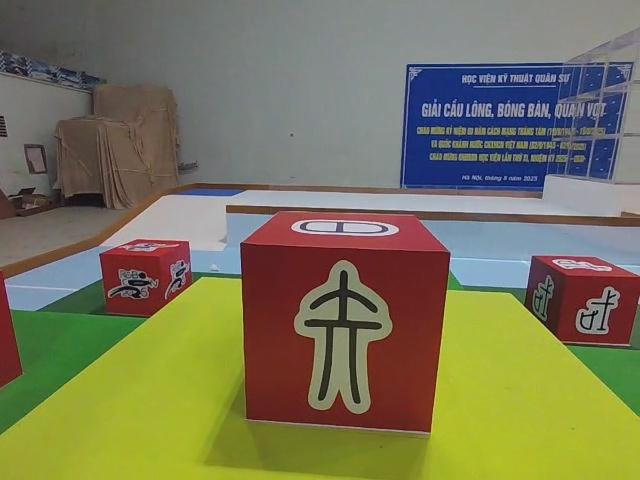R1: (102, 239, 196, 320)
R2 Fake: (235, 207, 449, 448)
R2 Real: (524, 249, 640, 355)
